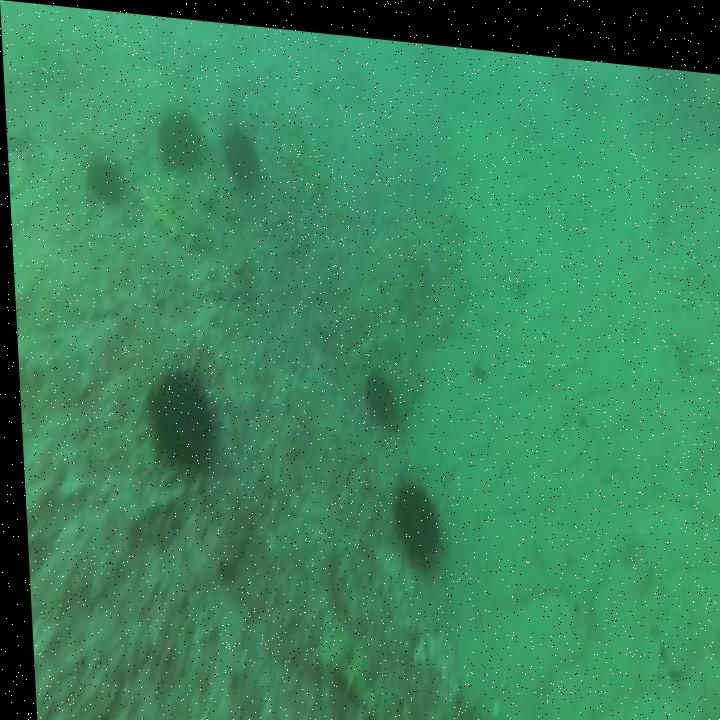echinus: (135, 346, 218, 480), (386, 462, 439, 573), (150, 94, 206, 185), (216, 115, 262, 193), (81, 148, 128, 209), (357, 354, 396, 421)
holothurian: (311, 608, 478, 720), (130, 165, 214, 255)
